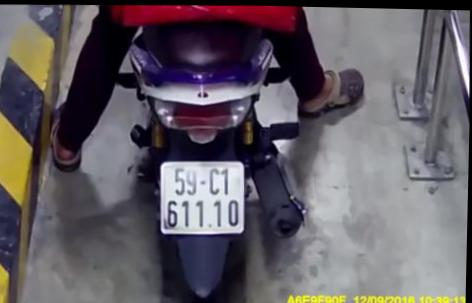LP: (155, 156, 250, 239)
